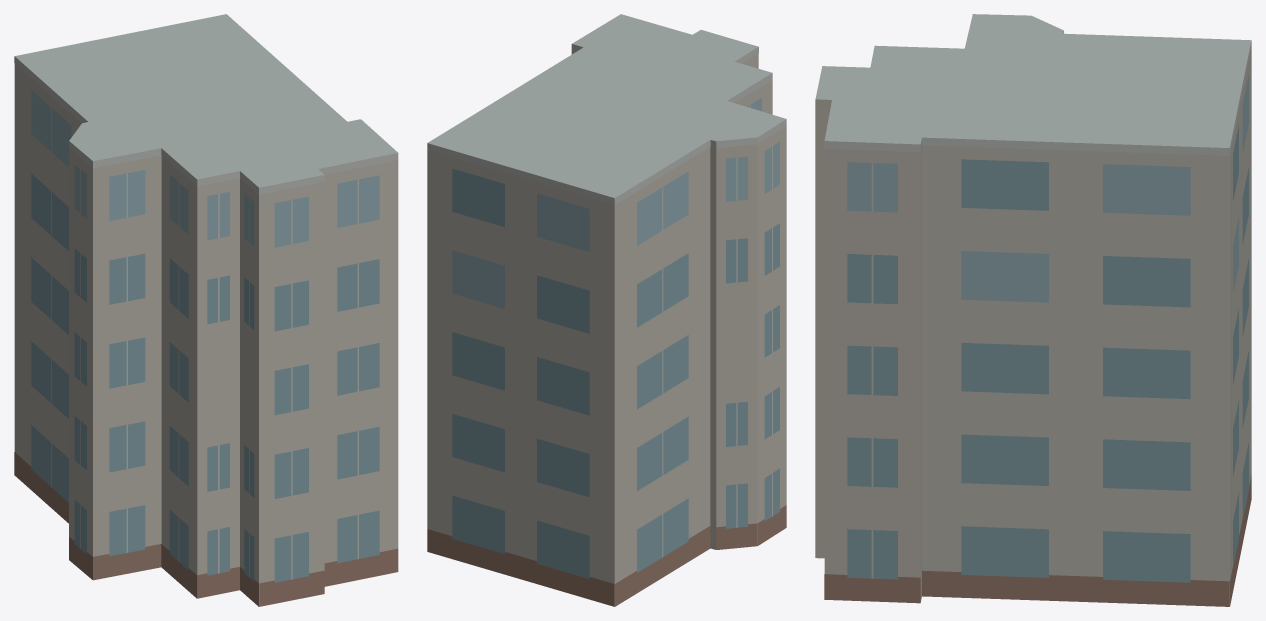
File: survey-upis-32509688.glb
3 views of the same model, side by side, from view 1: azimuth 30°, elevation 25°; view 2: azimuth 150°, elevation 25°; view 3: azimuth 270°, elevation 25° (orthographic). The views are drawn at different scales.
Visible parts, largest first — view 1: survey-upis-32509688.tmp; view 2: survey-upis-32509688.tmp; view 3: survey-upis-32509688.tmp.
Boxes of the visible parts, bbox=[...] form: survey-upis-32509688.tmp: bbox=[14, 14, 398, 606]; survey-upis-32509688.tmp: bbox=[427, 14, 786, 606]; survey-upis-32509688.tmp: bbox=[815, 14, 1251, 606].
Size of the model in its own units: 9.04 by 14.4 by 12.42.
